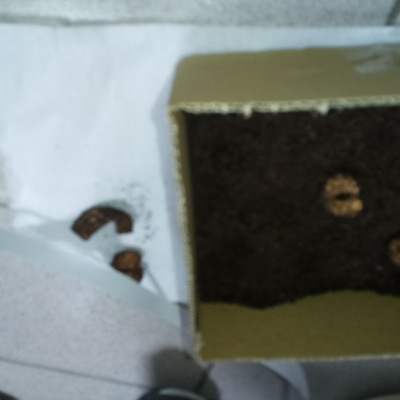eggs: (314, 171, 368, 223)
